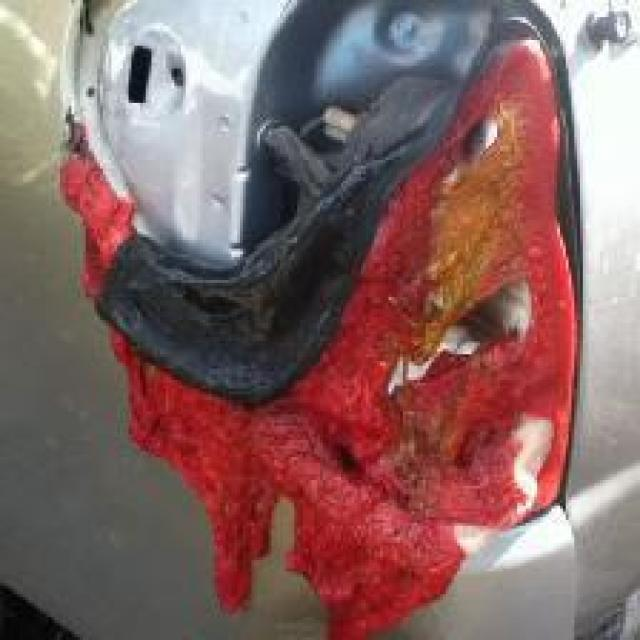damaged: (68, 5, 578, 638)
